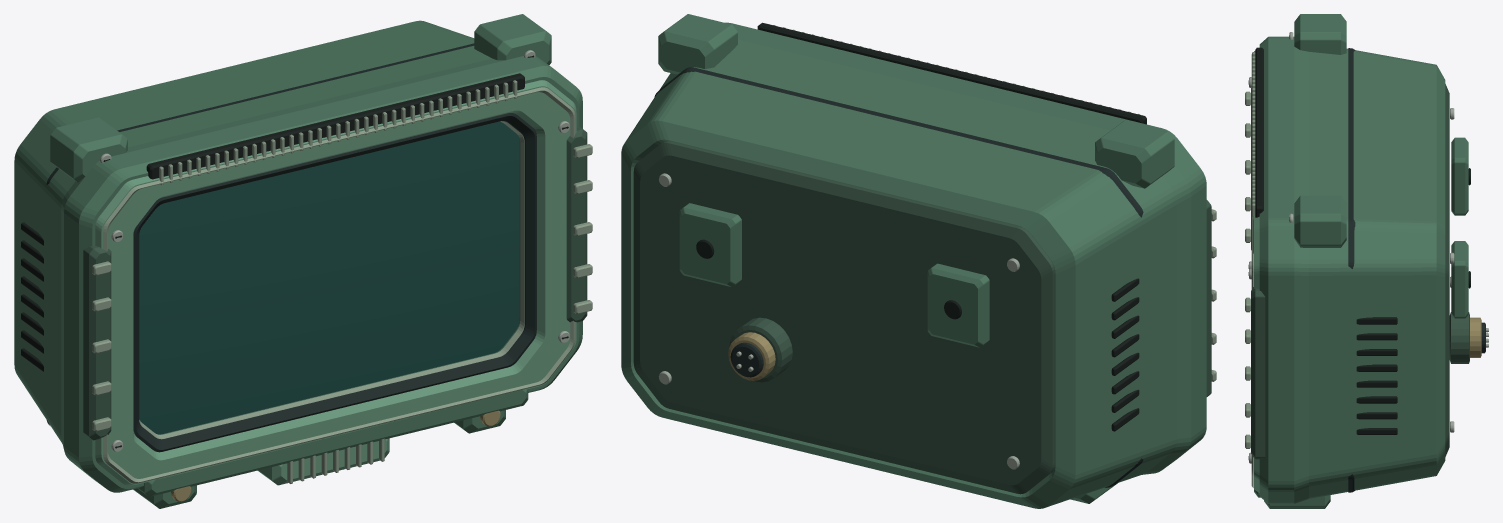
File: MapPanel.glb
3 views of the same model, side by side, from view 1: azimuth 30°, elevation 25°; view 2: azimuth 150°, elevation 25°; view 3: azimuth 270°, elevation 25° (orthographic). The views are drawn at different scales.
Parts seen in each view (by area): view 1: Screen_Display, Housing_Green, Bezel_Green, Edge_Metal, Dark_Gasket, Inset_Green, Vent_Dark; view 2: Housing_Green, Inset_Green, Vent_Dark, Dark_Gasket, Connector_Brass, Fastener_Steel; view 3: Housing_Green, Inset_Green, Vent_Dark, Edge_Metal, Dark_Gasket, Bezel_Green, Connector_Brass, Fastener_Steel.
Boxes of the visible parts, left/top/right/bottom form: Screen_Display: left=139, top=121, right=519, bottom=434; Housing_Green: left=14, top=14, right=582, bottom=508; Bezel_Green: left=95, top=80, right=576, bottom=485; Edge_Metal: left=92, top=80, right=592, bottom=483; Dark_Gasket: left=46, top=43, right=536, bottom=452; Inset_Green: left=83, top=127, right=587, bottom=440; Vent_Dark: left=21, top=55, right=568, bottom=448; Housing_Green: left=621, top=14, right=1206, bottom=508; Inset_Green: left=633, top=141, right=1211, bottom=494; Vent_Dark: left=696, top=22, right=1146, bottom=431; Dark_Gasket: left=654, top=67, right=1143, bottom=487; Connector_Brass: left=728, top=332, right=775, bottom=380; Fastener_Steel: left=658, top=173, right=1019, bottom=469; Housing_Green: left=1254, top=14, right=1468, bottom=508; Inset_Green: left=1251, top=84, right=1469, bottom=459; Vent_Dark: left=1248, top=35, right=1470, bottom=459; Edge_Metal: left=1245, top=52, right=1255, bottom=487; Dark_Gasket: left=1348, top=48, right=1485, bottom=492; Bezel_Green: left=1254, top=51, right=1259, bottom=492; Connector_Brass: left=1470, top=317, right=1481, bottom=357; Fastener_Steel: left=1249, top=32, right=1488, bottom=463.
Bounding box in the file's own units: 0.4889 × 0.3444 × 0.2332.
